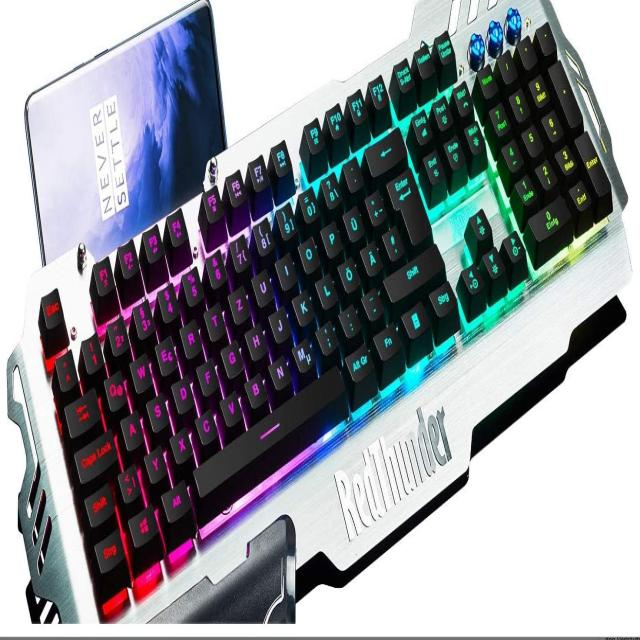0: (297, 183, 321, 223)
1: (80, 329, 105, 373)
2: (106, 312, 131, 355)
3: (131, 293, 156, 339)
4: (156, 278, 179, 322)
5: (181, 261, 204, 305)
6: (204, 242, 227, 288)
7: (229, 224, 251, 273)
8: (253, 209, 274, 258)
9: (276, 194, 298, 241)
a: (119, 407, 144, 449)
accent: (341, 152, 363, 191)
ae: (358, 237, 383, 276)
alt-left: (159, 474, 192, 523)
altgr-right: (342, 342, 375, 382)
b: (240, 368, 269, 408)
c: (192, 407, 219, 444)
caret: (54, 346, 78, 389)
comma: (314, 316, 339, 355)
d: (170, 373, 195, 413)
del: (362, 124, 407, 176)
e: (153, 329, 179, 375)
enter: (385, 168, 430, 245)
f: (195, 353, 220, 395)
g: (219, 336, 244, 377)
h: (243, 322, 268, 360)
hash: (379, 223, 404, 259)
i: (273, 247, 298, 290)
j: (267, 303, 291, 343)
k: (291, 288, 315, 325)
keyboard: (21, 4, 639, 624)
l: (314, 268, 338, 308)
less: (116, 460, 142, 503)
m: (291, 334, 317, 374)
minus: (360, 285, 384, 320)
n: (266, 350, 292, 391)
o: (296, 232, 321, 273)
oe: (336, 254, 360, 293)
p: (319, 216, 343, 256)
plus: (363, 185, 387, 225)
point: (337, 300, 361, 337)
q: (102, 365, 129, 410)
r: (178, 313, 203, 358)
s: (145, 391, 170, 431)
shift-left: (83, 478, 115, 527)
shift-lock: (72, 422, 118, 482)
shift-right: (380, 241, 444, 303)
space: (190, 359, 347, 505)
ss: (319, 167, 342, 208)
strg-left: (92, 526, 128, 573)
strg-right: (426, 278, 459, 318)
t: (203, 298, 228, 341)
tab: (63, 383, 101, 438)
u: (250, 264, 275, 307)
ue: (341, 200, 365, 241)
v: (218, 389, 244, 426)
w: (128, 348, 153, 391)
x: (168, 425, 194, 463)
y: (142, 442, 168, 483)
z: (227, 280, 251, 323)
